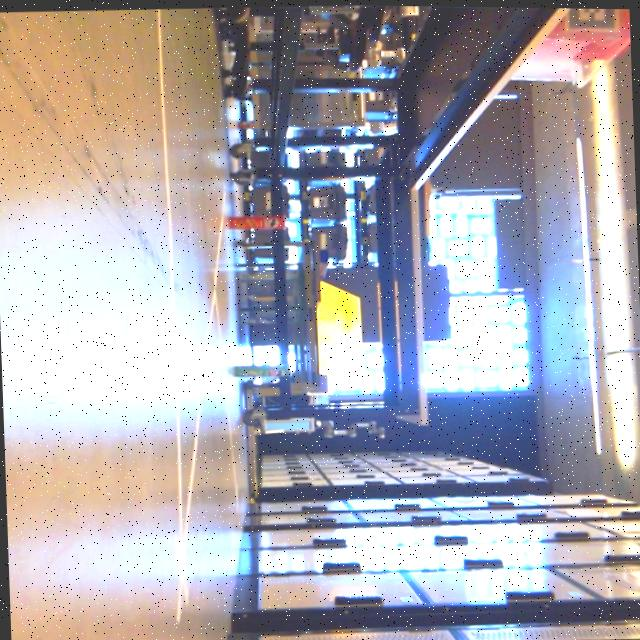greenpringles: (223, 345, 300, 390)
redpringles: (220, 198, 296, 240)
